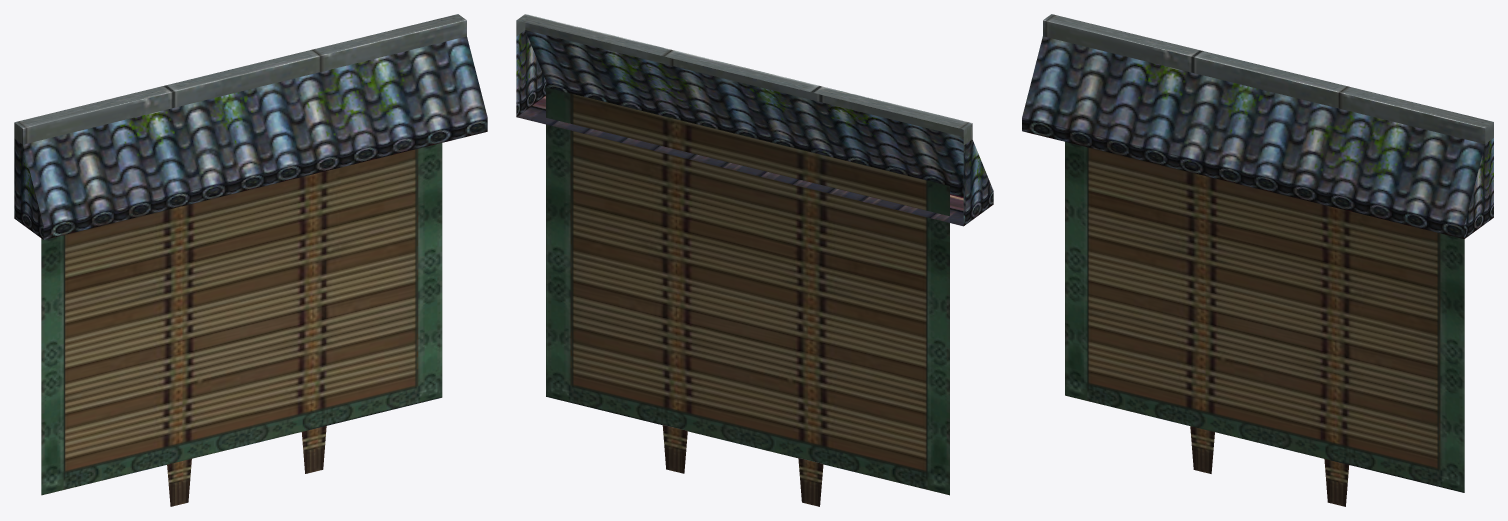
The model's file is YZC_MJ_AZ_03.FBX.
3 views of the same model, side by side, from view 1: azimuth 30°, elevation 25°; view 2: azimuth 150°, elevation 25°; view 3: azimuth 330°, elevation 25° (orthographic).
Visible parts, largest first — view 1: YZC_MJ_AZ_03; view 2: YZC_MJ_AZ_03; view 3: YZC_MJ_AZ_03.
Part boxes in pixels (x1,y1,x2,y2): YZC_MJ_AZ_03: [14, 14, 487, 506]; YZC_MJ_AZ_03: [516, 14, 993, 506]; YZC_MJ_AZ_03: [1022, 14, 1493, 506].
Bounding box in the file's own units: 91.06 × 81.55 × 10.5.
